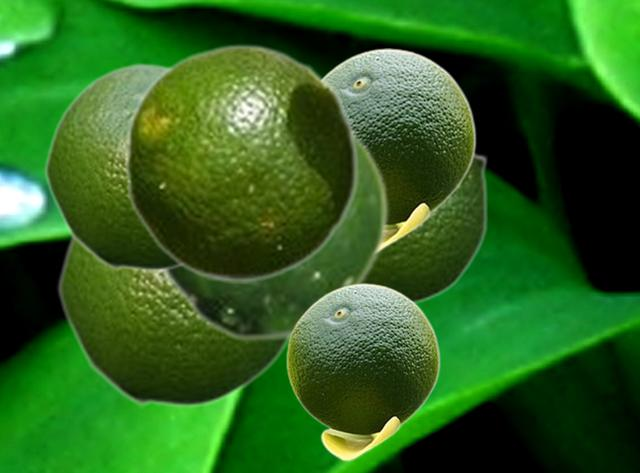calamansi: (123, 43, 359, 282), (156, 125, 389, 342), (56, 234, 287, 407), (322, 48, 475, 251), (43, 61, 182, 271), (286, 283, 439, 460), (366, 149, 488, 305)
